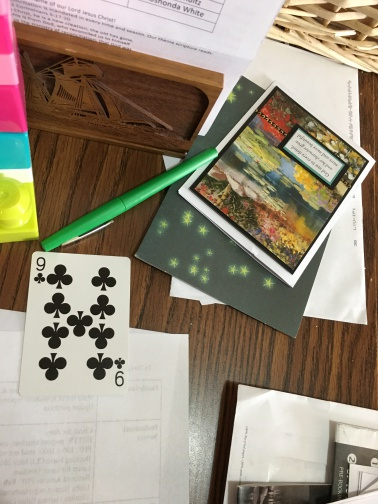nine: (21, 250, 131, 395)
